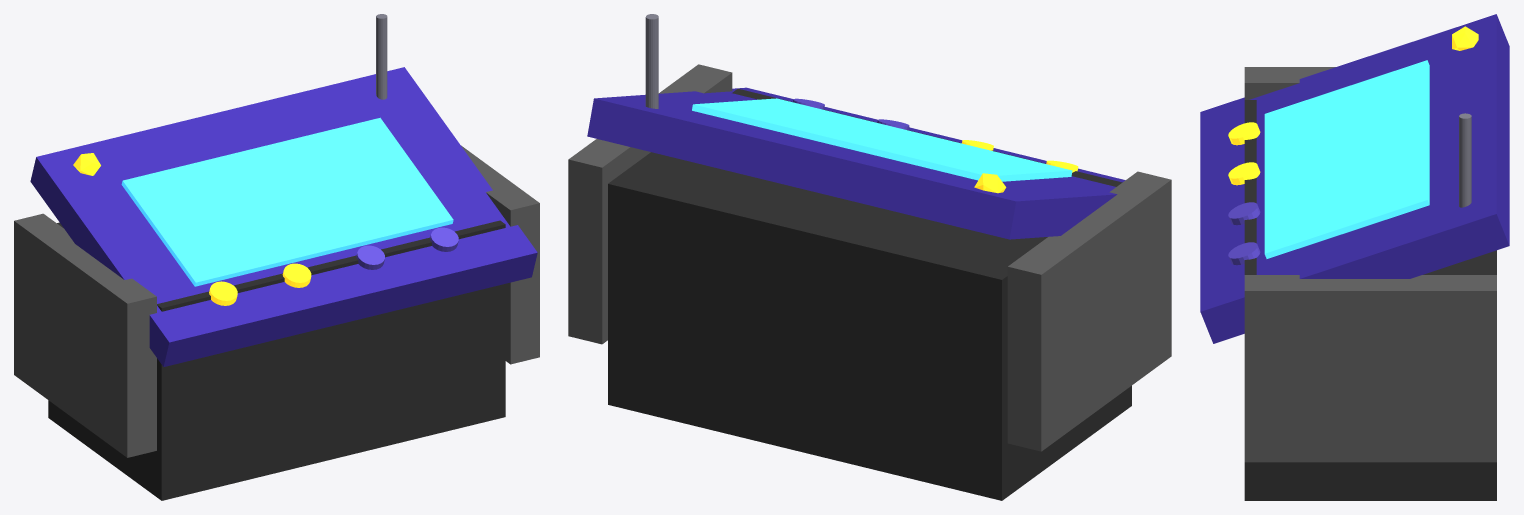
Rendered from terminal-console.glb.
3 views of the same model, side by side, from view 1: azimuth 30°, elevation 25°; view 2: azimuth 150°, elevation 25°; view 3: azimuth 270°, elevation 25° (orthographic). The views are drawn at different scales.
Size of the model in its own units: 1.5 by 1.16 by 0.8755.
